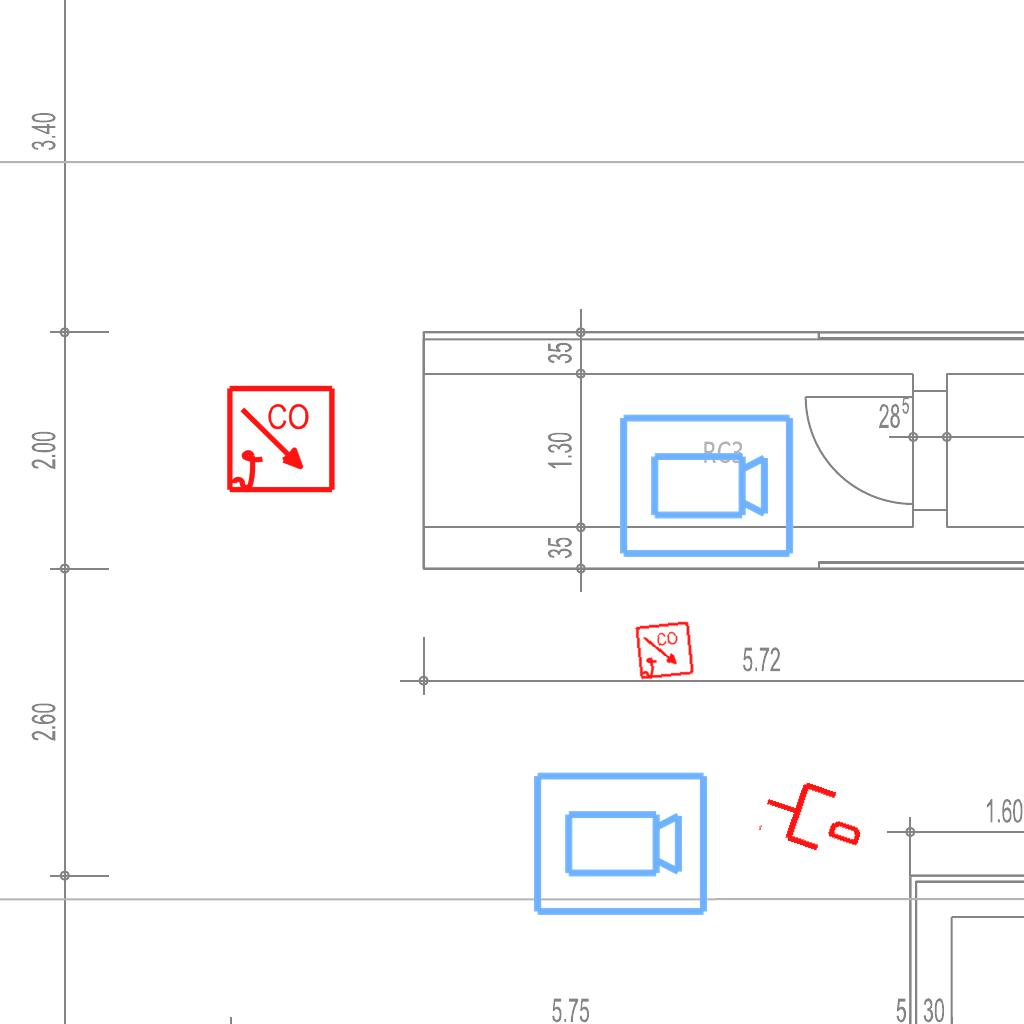Datenanschluss_einfach: (754, 768, 873, 866)
KFO_Kamera_mit_Festobjektiv: (615, 410, 797, 564), (529, 768, 711, 922)
ROA_Rauchmelder_optisch_mit_Signalgeber_(Sockelsirene): (225, 384, 338, 497), (634, 620, 696, 682)
